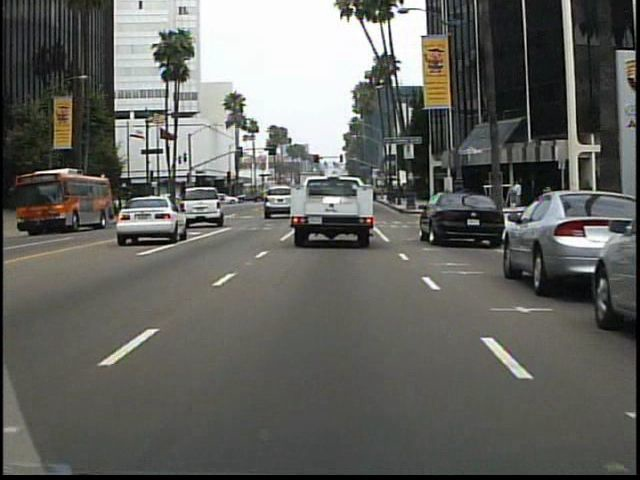person: (512, 178, 525, 198)
